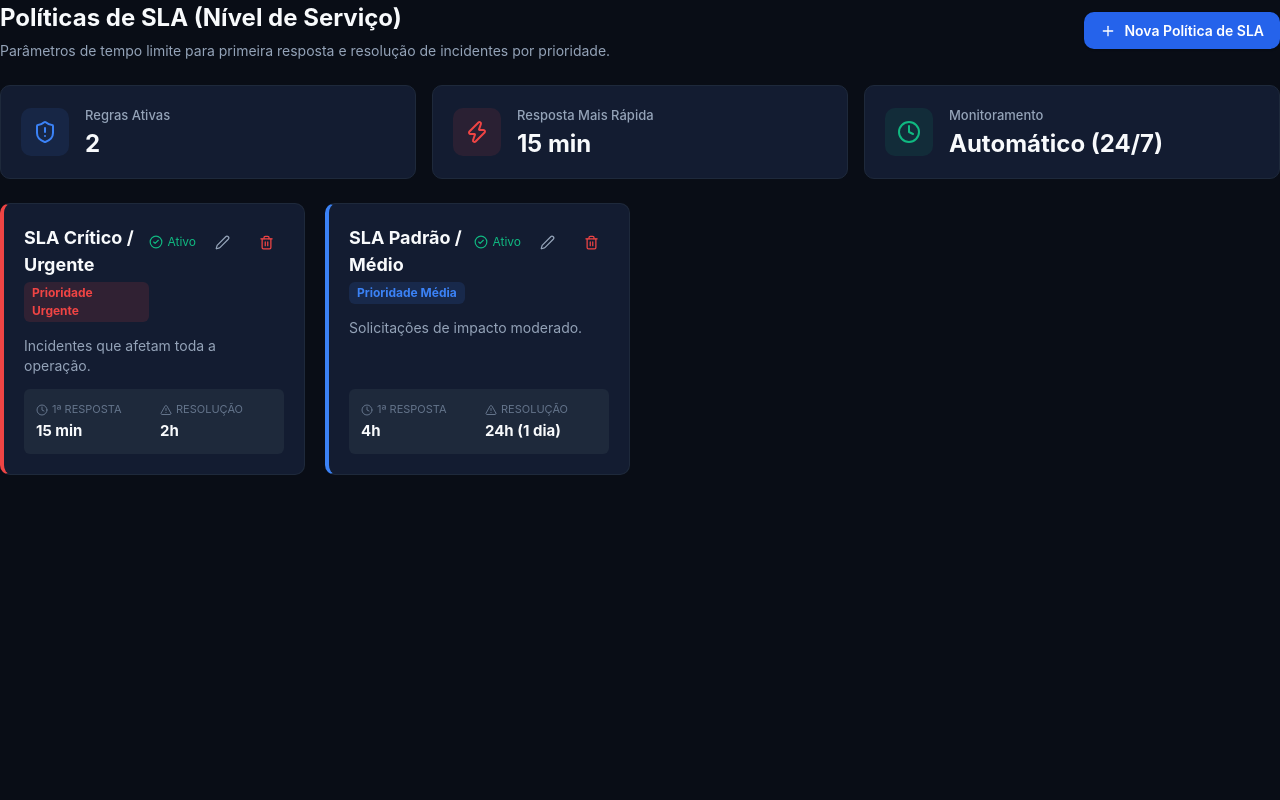
Test: SlaPoliciesPage Component › opens confirmation modal when clicking delete button on policy card
What coordinates should you click on to do the following:
click the button titled "Excluir política de SLA" in the row of "SLA Crítico / Urgente"
I would click on:
 (266, 242)
Its box is 248,224 -> 284,260.
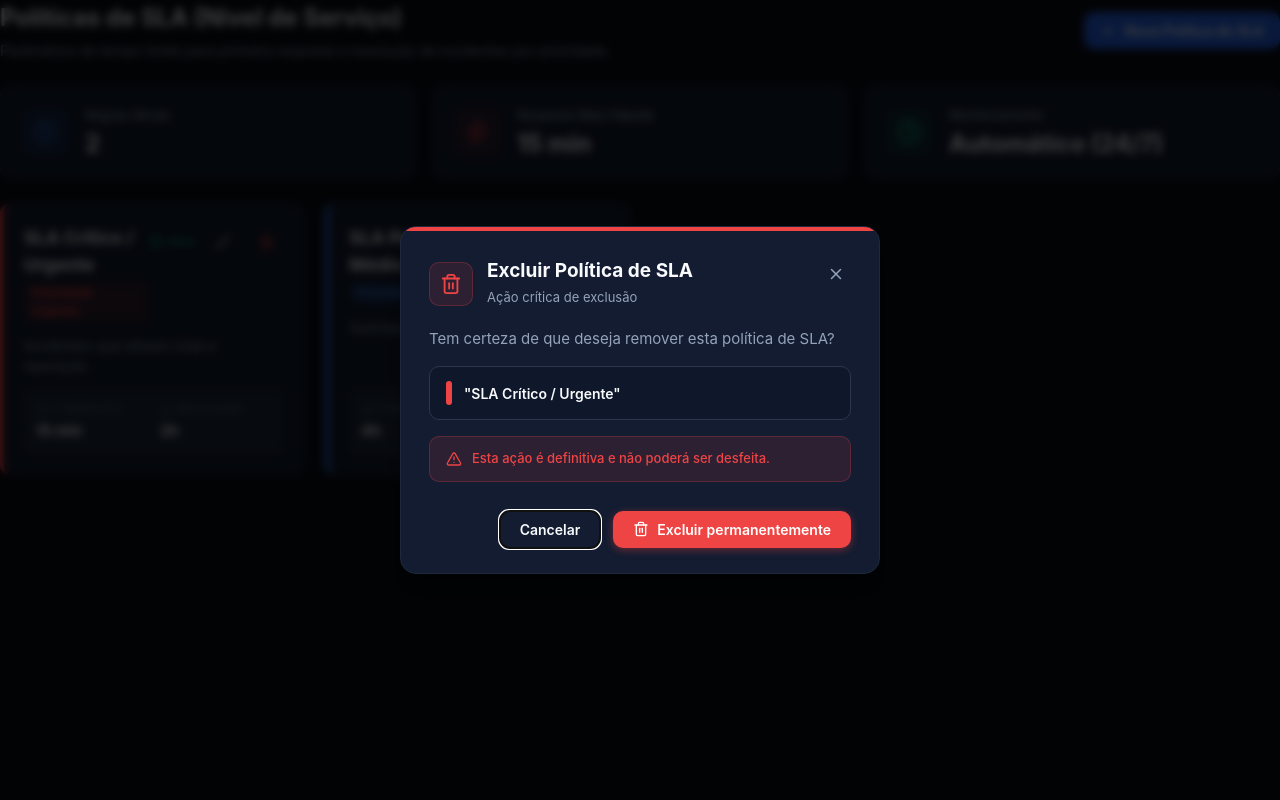
Check: the dialog is shown
Check: the heading "Excluir Política de SLA" is shown, box 487,259 -> 693,284
